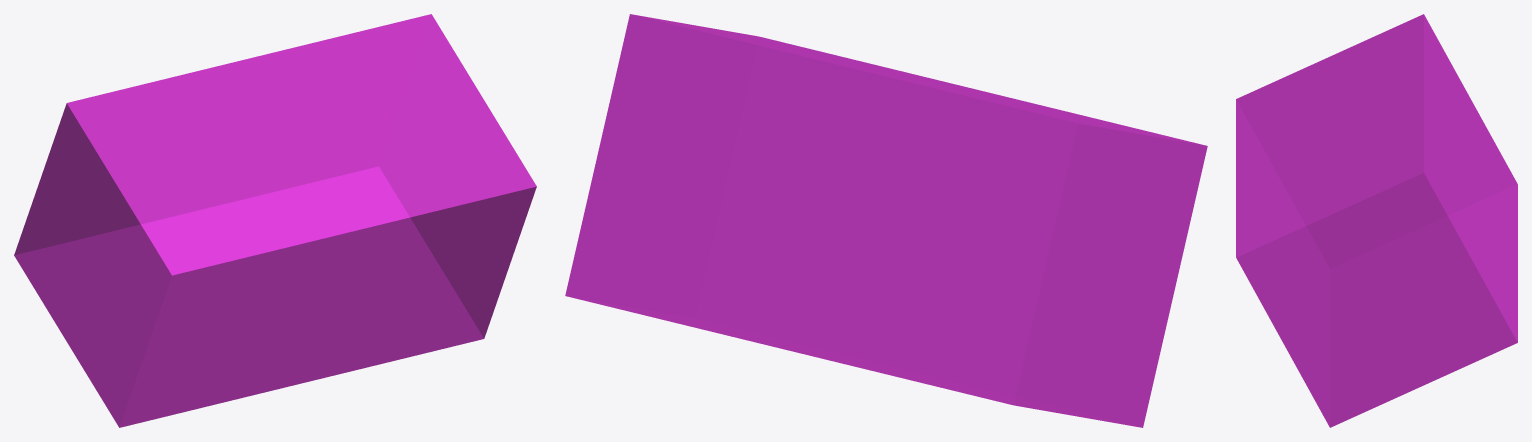
3 views of the same model, side by side, from view 1: azimuth 30°, elevation 25°; view 2: azimuth 150°, elevation 25°; view 3: azimuth 270°, elevation 25° (orthographic). The views are drawn at different scales.
Size of the model in its own units: 4 by 3 by 3.
